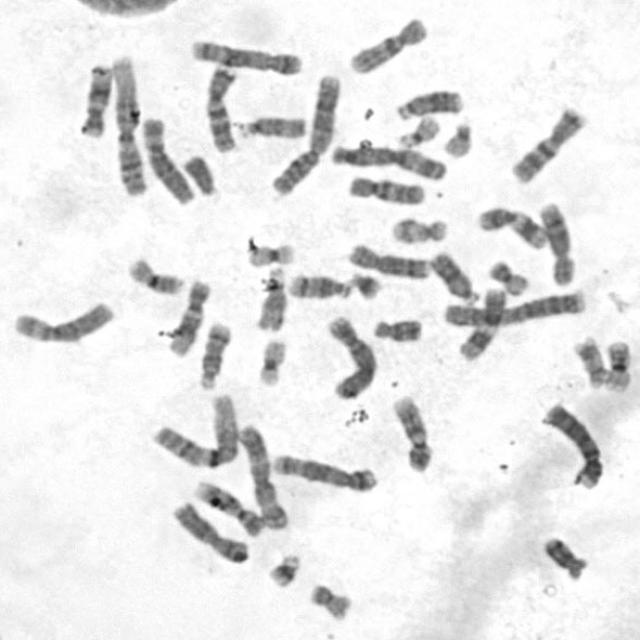A1: (146, 388, 242, 470), (105, 50, 149, 197)
A2: (265, 68, 344, 197), (437, 284, 588, 328)
A3: (233, 419, 291, 531), (324, 138, 450, 182)
B4: (539, 398, 608, 491), (320, 310, 379, 401)
B5: (185, 32, 305, 76), (268, 447, 381, 493)
C10: (344, 11, 432, 76), (344, 170, 428, 206)
C11: (453, 282, 510, 363), (473, 201, 552, 251)
C12: (162, 273, 214, 359), (74, 58, 114, 139)
C6: (134, 110, 197, 206), (8, 296, 116, 345)
C7: (506, 101, 589, 186), (200, 58, 240, 154)
C8: (534, 197, 577, 287), (344, 238, 433, 280)
C9: (189, 474, 267, 538), (387, 389, 436, 474)
D13: (424, 245, 482, 305), (392, 82, 466, 122)
D14: (193, 316, 233, 391), (283, 268, 355, 300)
D15: (250, 262, 288, 332), (232, 109, 309, 142)
E16: (121, 251, 188, 297), (600, 334, 636, 394)
E17: (568, 330, 610, 390), (385, 212, 451, 245)
E18: (537, 530, 590, 580), (367, 312, 425, 344)
F19: (252, 332, 290, 389), (243, 238, 298, 269)
F20: (305, 578, 356, 622), (483, 252, 532, 297)
G21: (261, 547, 304, 589), (343, 266, 384, 301)
G22: (392, 110, 442, 149), (437, 116, 476, 160)
X: (167, 495, 252, 565)
Y: (177, 148, 219, 198)
